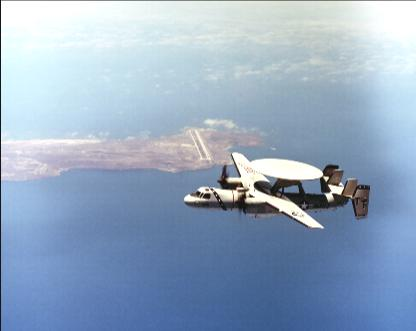C5: (182, 152, 368, 228)
